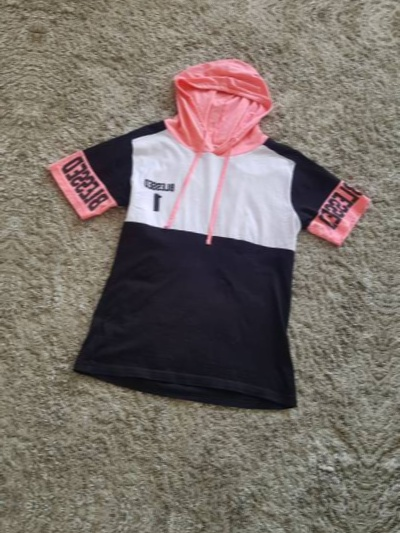Hoodie: (9, 38, 376, 428), (0, 0, 22, 385)
